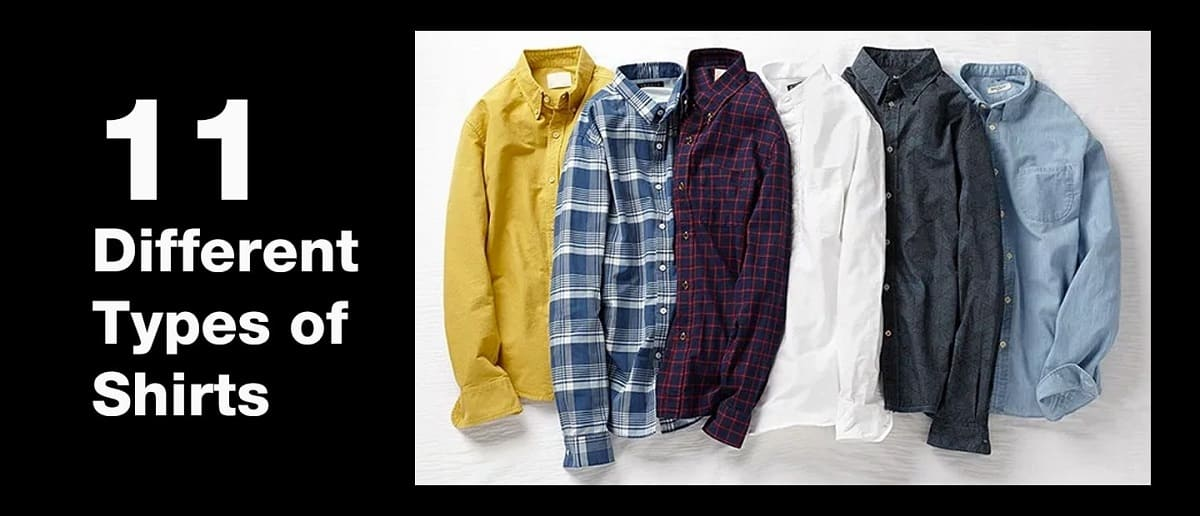long-sleeved official shirt: (444, 47, 1116, 455)
